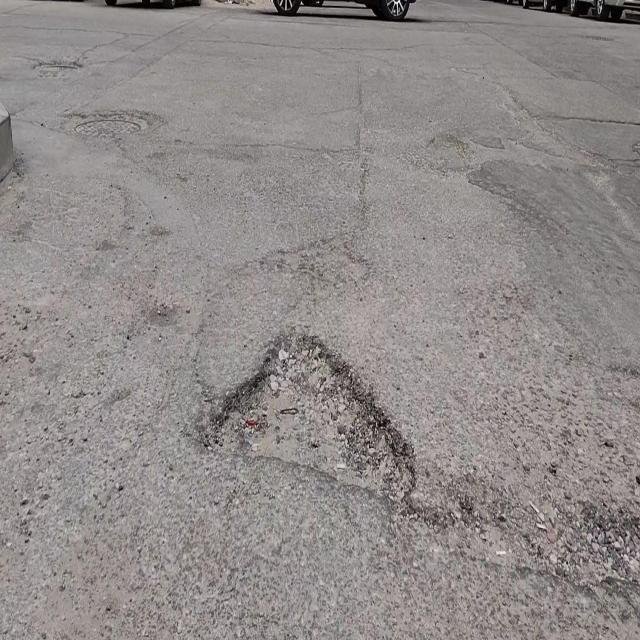Potholes: (205, 324, 406, 502)
